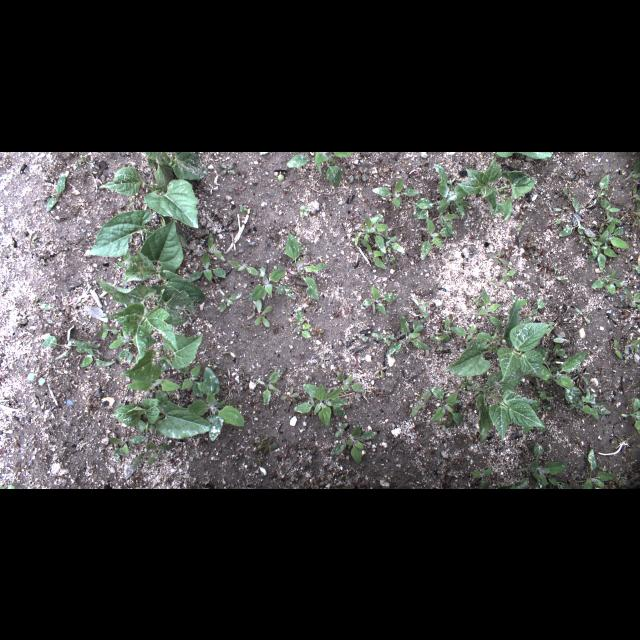crop: (444, 297, 552, 378), (96, 278, 200, 358), (119, 218, 205, 302), (98, 166, 200, 228), (472, 370, 544, 442), (458, 157, 536, 220), (118, 331, 204, 379), (110, 398, 212, 438), (88, 210, 156, 256), (142, 153, 204, 183)
weed: (190, 366, 242, 439), (499, 442, 571, 488), (536, 344, 592, 398), (284, 234, 326, 302), (295, 384, 349, 428), (584, 224, 628, 272), (327, 422, 377, 464), (382, 316, 430, 358), (288, 154, 342, 188), (434, 164, 468, 218), (582, 446, 622, 488), (369, 177, 418, 209), (249, 268, 295, 300), (40, 336, 100, 359), (67, 290, 109, 322), (566, 388, 610, 418), (472, 286, 502, 330), (429, 386, 463, 424), (132, 441, 174, 471), (125, 376, 179, 399), (418, 220, 449, 260), (187, 250, 226, 280), (110, 320, 136, 364), (364, 214, 392, 254), (107, 434, 147, 461), (363, 286, 397, 316), (590, 268, 624, 296), (256, 368, 280, 404), (559, 216, 597, 238), (76, 348, 116, 368), (620, 396, 640, 436), (45, 176, 65, 214), (335, 371, 367, 394), (454, 324, 494, 342), (588, 174, 610, 206), (290, 308, 312, 339), (365, 243, 389, 270), (178, 364, 202, 390), (560, 184, 582, 212), (438, 196, 454, 234), (357, 328, 393, 344), (383, 230, 405, 256), (410, 391, 432, 417), (206, 232, 226, 260), (552, 326, 570, 356), (254, 300, 274, 326), (226, 258, 258, 274), (38, 300, 58, 324), (469, 468, 493, 488), (534, 381, 554, 404), (314, 151, 356, 161), (219, 293, 239, 313), (623, 158, 639, 182), (413, 199, 432, 219), (414, 300, 431, 322), (114, 249, 132, 269), (604, 201, 620, 223), (624, 288, 640, 310), (496, 152, 552, 158), (528, 298, 544, 318), (24, 372, 46, 386), (96, 324, 118, 338), (488, 250, 509, 264), (25, 232, 43, 248), (282, 386, 300, 402), (263, 437, 279, 455), (332, 422, 350, 438), (374, 360, 390, 378), (444, 315, 454, 343), (624, 334, 638, 354), (502, 264, 514, 286), (437, 464, 453, 480), (574, 368, 590, 384), (252, 435, 270, 449), (429, 333, 443, 351), (576, 306, 590, 324), (610, 337, 622, 358), (73, 154, 93, 166), (436, 418, 450, 434), (332, 474, 350, 486), (360, 221, 370, 241), (220, 161, 234, 175), (252, 455, 268, 467), (571, 164, 583, 180), (358, 164, 368, 182), (522, 237, 540, 247), (458, 378, 474, 389), (631, 203, 639, 224), (552, 204, 570, 213), (556, 266, 566, 282), (630, 185, 640, 201), (348, 169, 359, 183), (312, 326, 324, 338), (516, 220, 528, 232), (348, 208, 358, 222), (528, 248, 538, 262), (300, 205, 310, 218), (238, 202, 248, 214), (353, 230, 361, 244), (277, 171, 287, 181), (543, 261, 553, 271), (629, 264, 639, 274), (535, 405, 551, 411), (550, 218, 562, 226), (4, 245, 16, 252), (250, 304, 256, 318), (316, 356, 324, 366), (620, 310, 628, 320), (522, 428, 534, 434), (472, 295, 478, 307), (260, 267, 266, 277), (309, 375, 315, 385), (522, 298, 528, 308), (509, 292, 515, 302), (598, 222, 604, 232), (1, 484, 15, 488), (436, 318, 442, 327)
